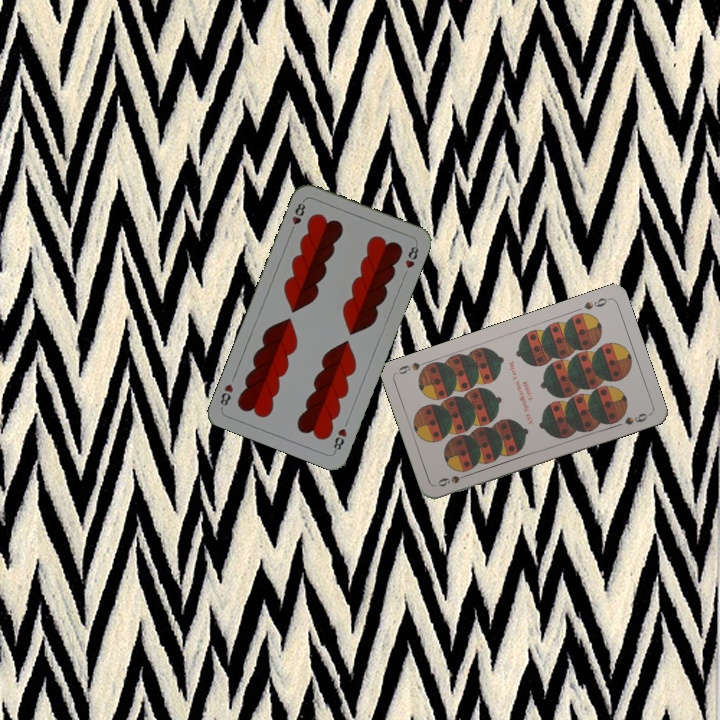H8: (286, 197, 308, 236), (329, 424, 350, 455)
S9: (433, 469, 473, 489), (580, 294, 612, 312)
